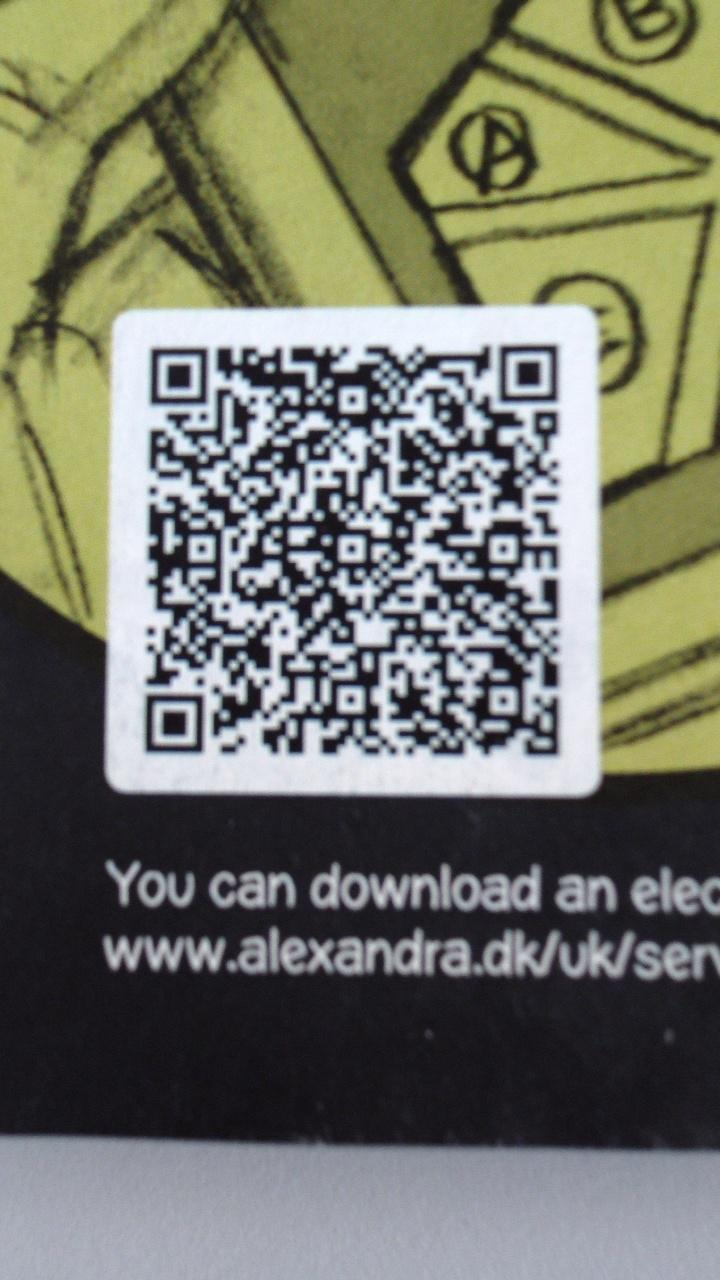Finder pattern: (134, 682, 214, 762), (138, 336, 213, 413), (487, 336, 567, 406)
